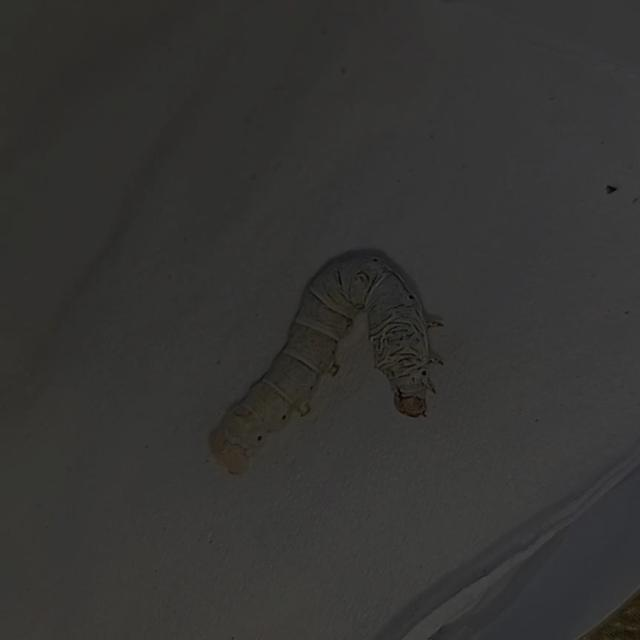Healthy: (159, 212, 475, 489)
